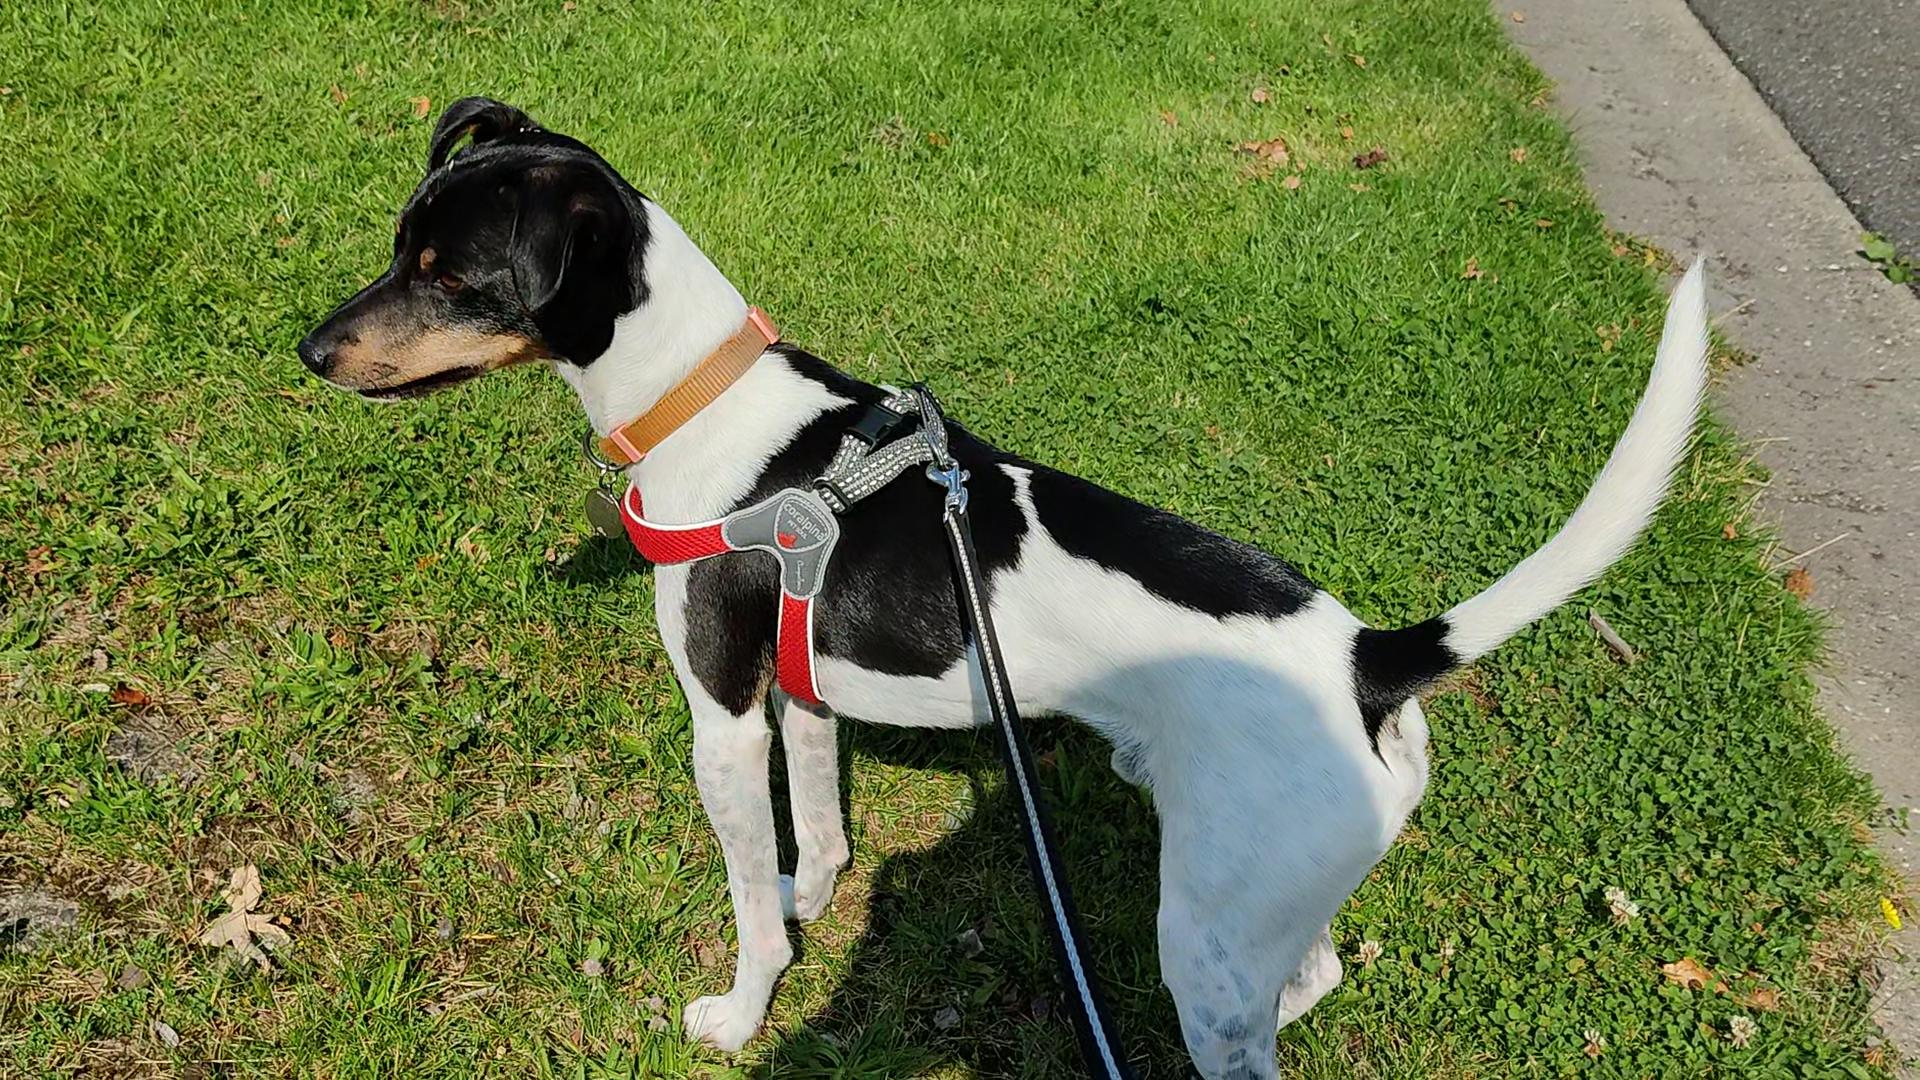Dog: (287, 88, 1714, 1079)
